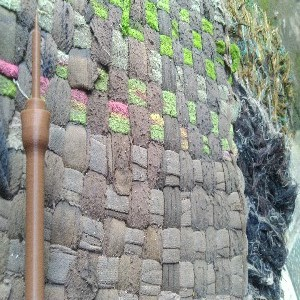solder: (19, 6, 52, 300)
